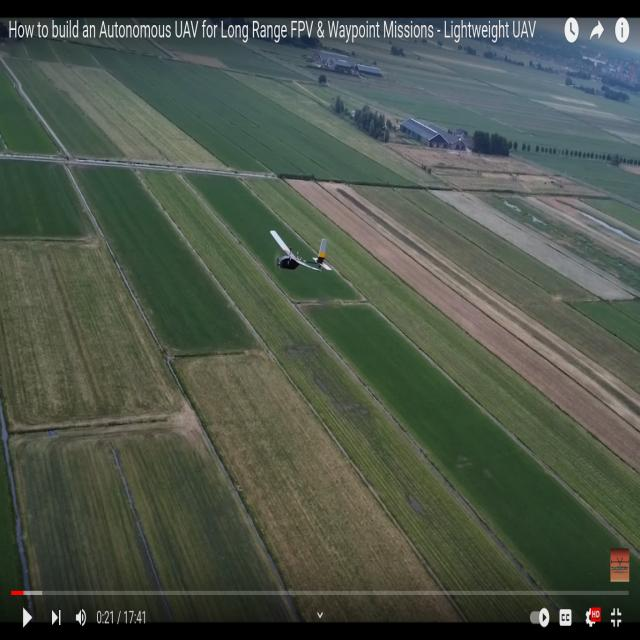drones: (255, 222, 348, 285)
